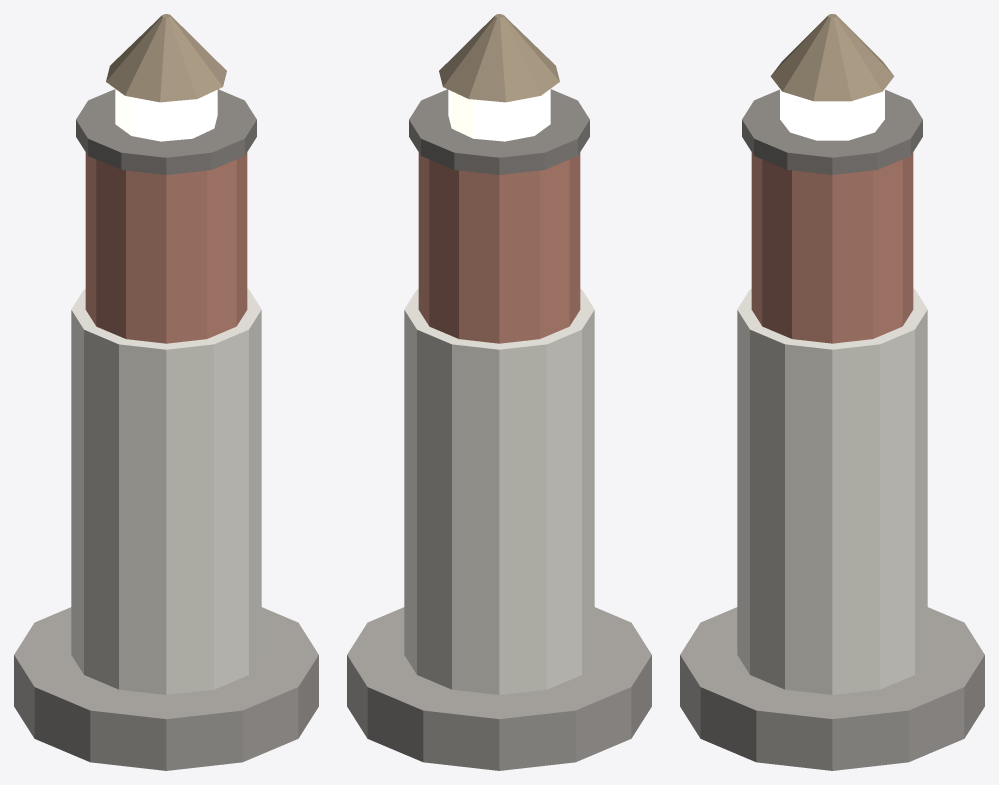
The model's file is 27-Islas-Ubicaciones_faro_viejo.glb.
3 renders of one model, left to right at view 1: azimuth 30°, elevation 25°; view 2: azimuth 150°, elevation 25°; view 3: azimuth 270°, elevation 25°, orthographic.
Parts seen in each view (by area): view 1: SM_Faro_M_Faro_Cal, SM_Faro_M_Faro_Roca, SM_Faro_M_Faro_Cal_Osc, SM_Faro_M_Faro_Metal, SM_Faro_M_Faro_Techo, SM_Faro_M_Faro_Lampara; view 2: SM_Faro_M_Faro_Cal, SM_Faro_M_Faro_Roca, SM_Faro_M_Faro_Cal_Osc, SM_Faro_M_Faro_Metal, SM_Faro_M_Faro_Techo, SM_Faro_M_Faro_Lampara; view 3: SM_Faro_M_Faro_Cal, SM_Faro_M_Faro_Roca, SM_Faro_M_Faro_Cal_Osc, SM_Faro_M_Faro_Metal, SM_Faro_M_Faro_Techo, SM_Faro_M_Faro_Lampara.
Part boxes in pixels (<box>): SM_Faro_M_Faro_Cal: <box>71,289,261,694</box>; SM_Faro_M_Faro_Roca: <box>14,607,318,770</box>; SM_Faro_M_Faro_Cal_Osc: <box>85,152,247,343</box>; SM_Faro_M_Faro_Metal: <box>76,89,256,174</box>; SM_Faro_M_Faro_Techo: <box>106,14,226,102</box>; SM_Faro_M_Faro_Lampara: <box>115,89,217,141</box>; SM_Faro_M_Faro_Cal: <box>404,289,594,694</box>; SM_Faro_M_Faro_Roca: <box>347,607,651,770</box>; SM_Faro_M_Faro_Cal_Osc: <box>418,152,580,343</box>; SM_Faro_M_Faro_Metal: <box>409,89,589,174</box>; SM_Faro_M_Faro_Techo: <box>439,14,559,102</box>; SM_Faro_M_Faro_Lampara: <box>448,89,550,141</box>; SM_Faro_M_Faro_Cal: <box>737,288,927,694</box>; SM_Faro_M_Faro_Roca: <box>680,607,984,770</box>; SM_Faro_M_Faro_Cal_Osc: <box>751,152,913,343</box>; SM_Faro_M_Faro_Metal: <box>742,89,922,174</box>; SM_Faro_M_Faro_Techo: <box>770,14,894,101</box>; SM_Faro_M_Faro_Lampara: <box>780,89,884,140</box>.
Size of the model in its own units: 3.2 by 8 by 3.2.
